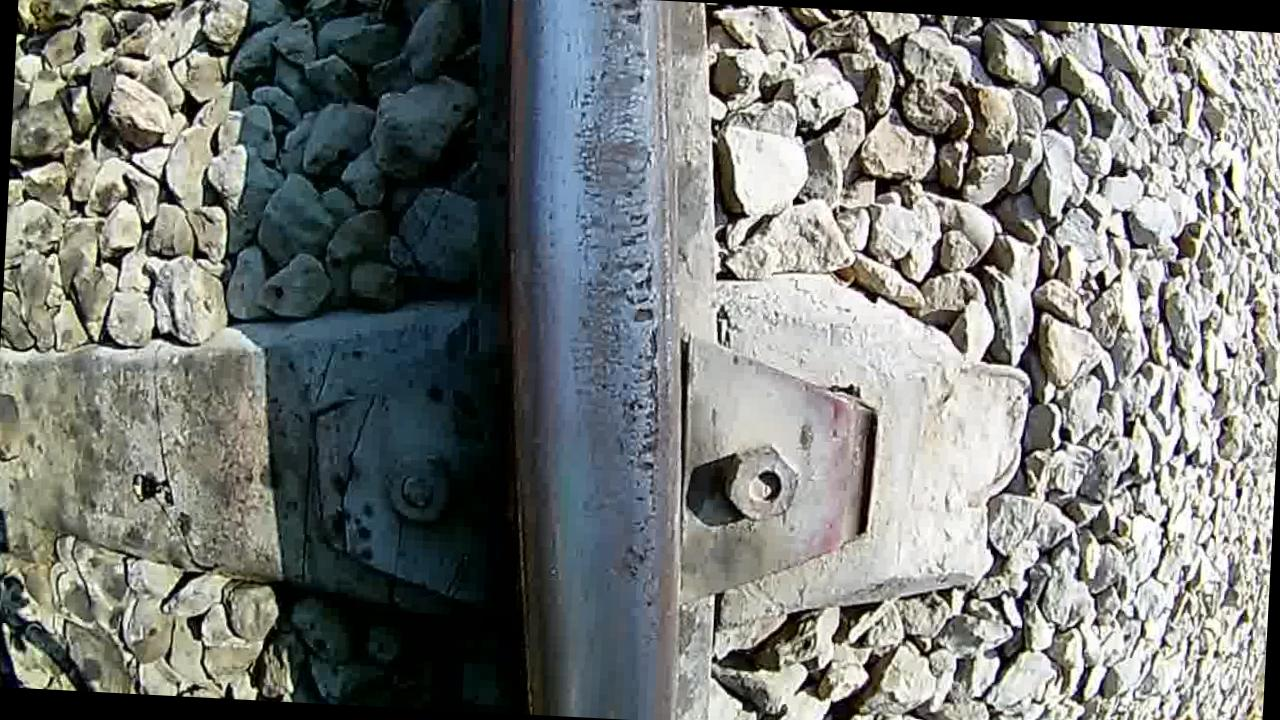crack: (481, 0, 700, 720)
